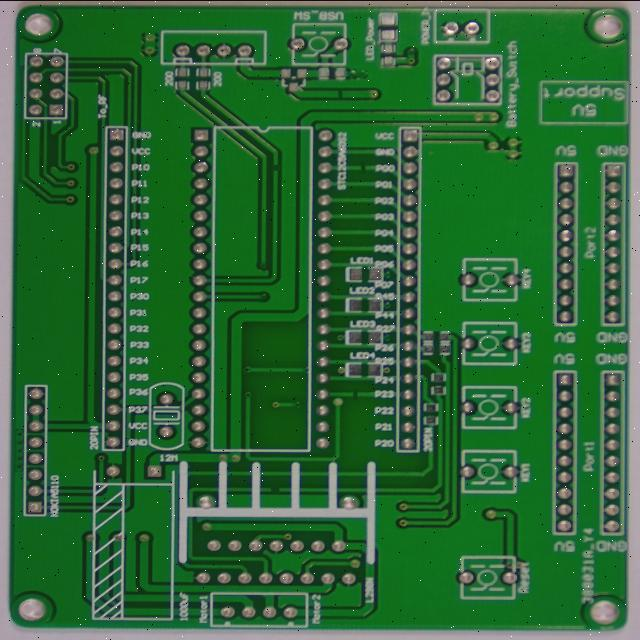open_circuit: (290, 434, 305, 449), (194, 180, 208, 193), (190, 543, 209, 552), (272, 98, 286, 110), (300, 181, 312, 195)
